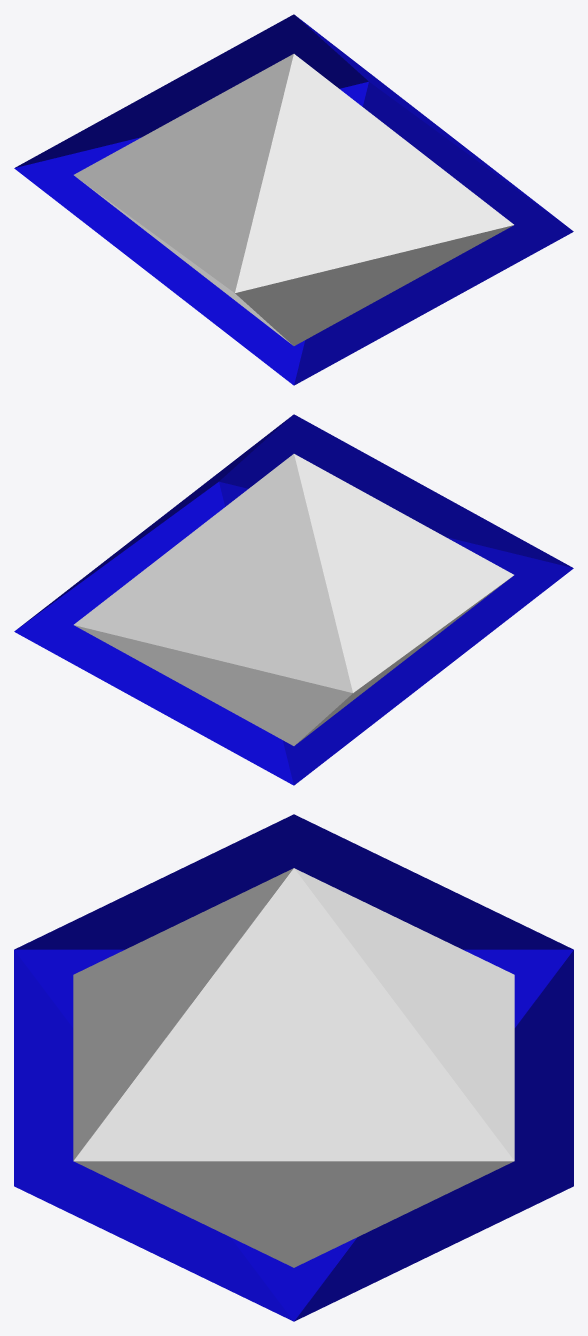
The picture shows the model from 3 angles, top to bottom: view 1: azimuth 30°, elevation 25°; view 2: azimuth 150°, elevation 25°; view 3: azimuth 270°, elevation 25°; orthographic projection. The views are drawn at different scales.
Visible parts, largest first — view 1: Cube; view 2: Cube; view 3: Cube.
Boxes of the visible parts, x1,y1,x2,y2 form: Cube: (14, 14, 573, 385); Cube: (14, 414, 573, 785); Cube: (14, 814, 573, 1321).
Bounding box in the file's own units: 0.2 × 0.2 × 0.2.
